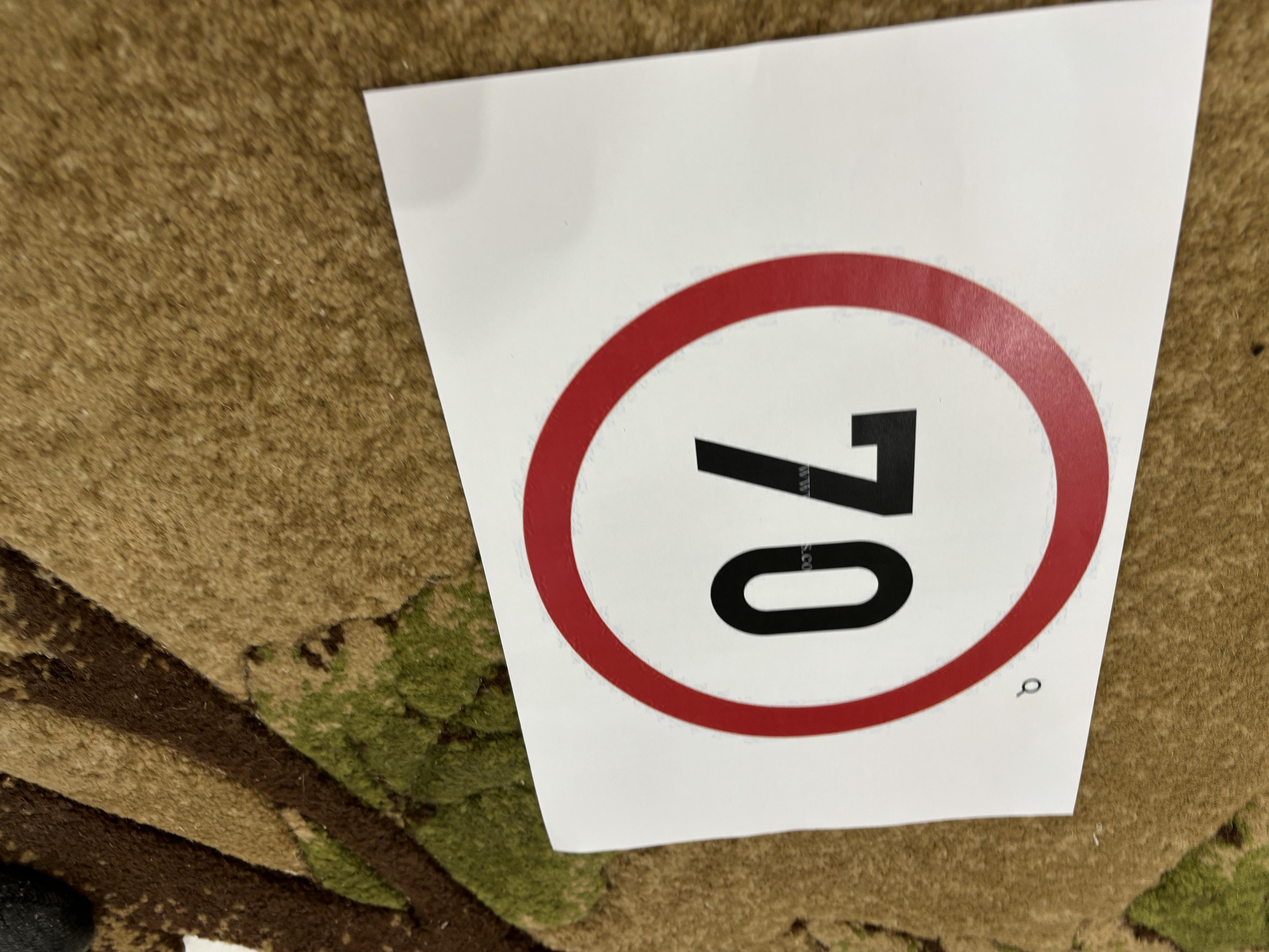70-Speed: (517, 245, 1118, 741)
